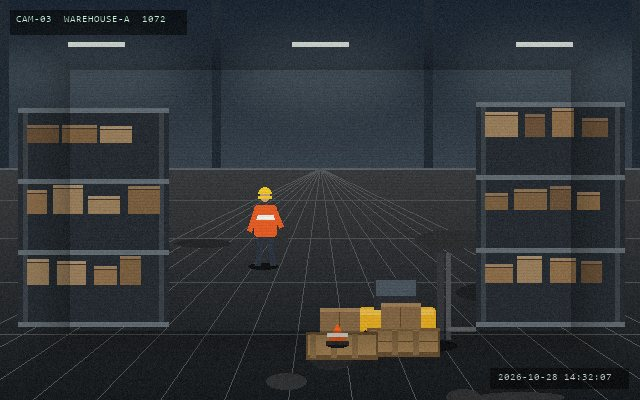cone: (325, 322, 349, 347)
forklift: (354, 251, 477, 353)
pallet: (365, 326, 441, 358), (304, 330, 379, 361)
person: (247, 186, 283, 268)
shelf: (476, 102, 624, 322), (18, 108, 168, 322)
